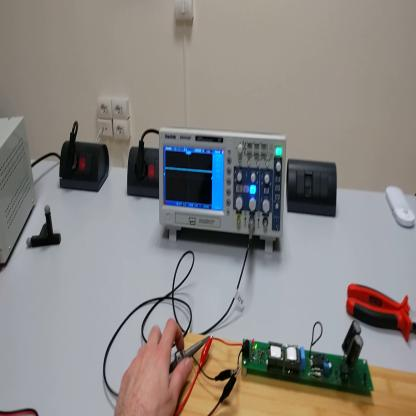hand: (116, 318, 193, 416)
high voltage board: (217, 320, 380, 402)
oscilloscope: (156, 119, 288, 257)
oscilloscope probe tip: (169, 335, 213, 378)
pliers: (345, 277, 416, 341)
power supply: (2, 107, 40, 272)
socket: (60, 136, 110, 195), (126, 145, 161, 204)
working area: (177, 329, 416, 416)
